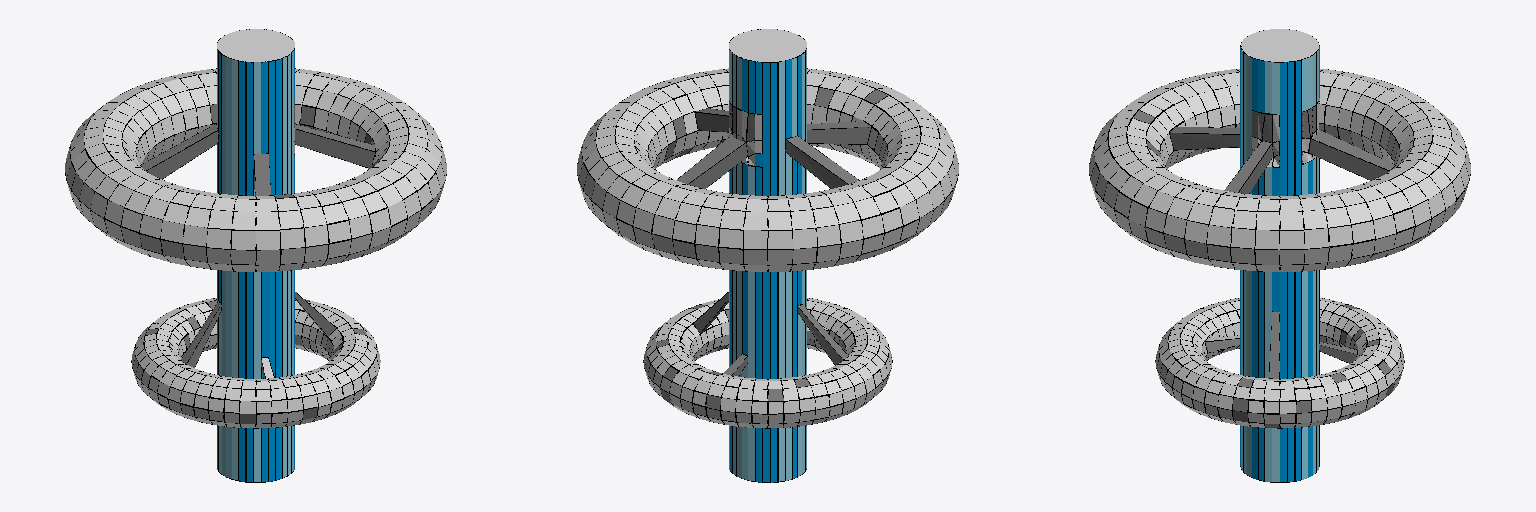
3 renders of one model, left to right at view 1: azimuth 30°, elevation 25°; view 2: azimuth 150°, elevation 25°; view 3: azimuth 270°, elevation 25°, orthographic.
Parts seen in each view (by area): view 1: zap_tower_Cylinder; view 2: zap_tower_Cylinder; view 3: zap_tower_Cylinder.
Part boxes in pixels (x1,y1,x2,y2): zap_tower_Cylinder: (65, 29, 446, 482); zap_tower_Cylinder: (577, 29, 958, 482); zap_tower_Cylinder: (1089, 29, 1470, 482).
Bounding box in the file's own units: 2.5 × 3.03 × 2.5.
Materials: 1 (1 with a texture image).